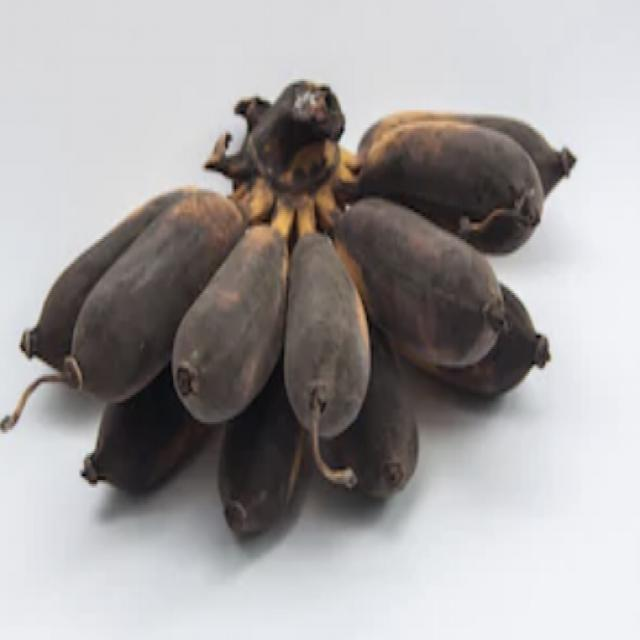rotten-banana: (57, 172, 235, 414), (174, 196, 294, 436), (348, 188, 510, 345), (361, 114, 571, 226), (287, 205, 366, 439)
